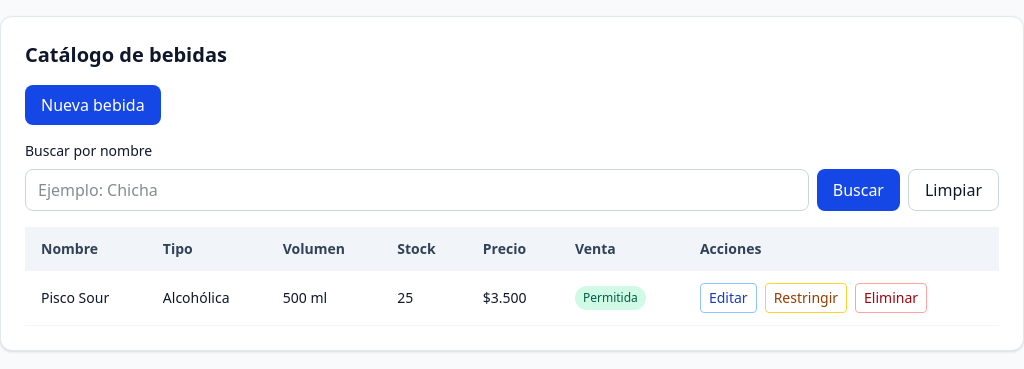
Test case: Acciones del catálogo › limpia el filtro y vuelve a consultar sin nombre
Expected: the text "Pisco Sour" is shown, top-left (25, 271), bottom-right (147, 326)
Type "Pisco" into the field labelled "Buscar por nombre".
click(417, 190); type("Pisco")  # box top-left (25, 169), bottom-right (809, 211)
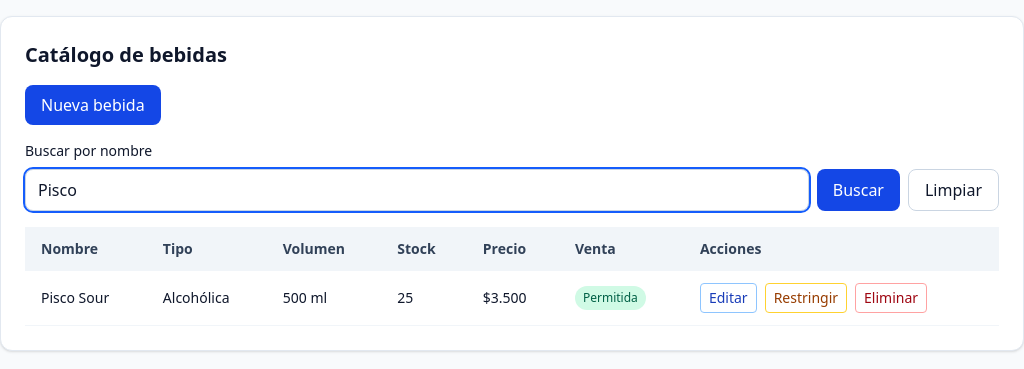
Click the button "Buscar".
click(858, 190)  # box top-left (817, 169), bottom-right (900, 211)
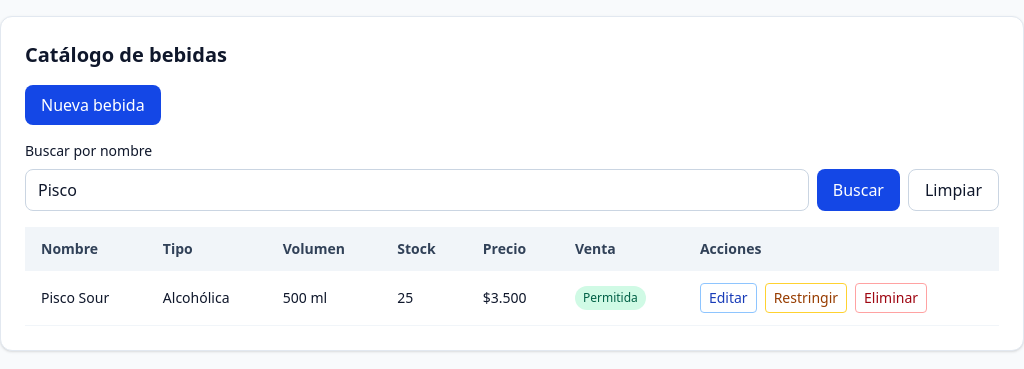
Click the button "Limpiar".
click(954, 190)  # box top-left (908, 169), bottom-right (999, 211)
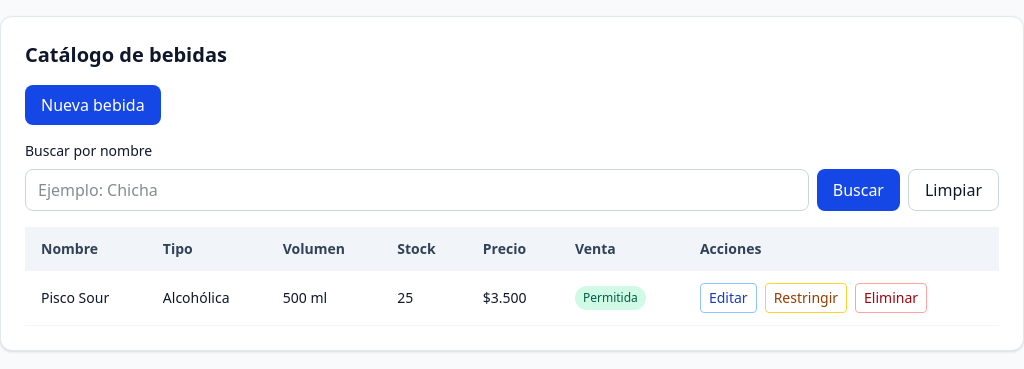
Expected: the field labelled "Buscar por nombre" is empty, top-left (25, 169), bottom-right (809, 211)
